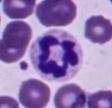N: (30, 29, 83, 81)
